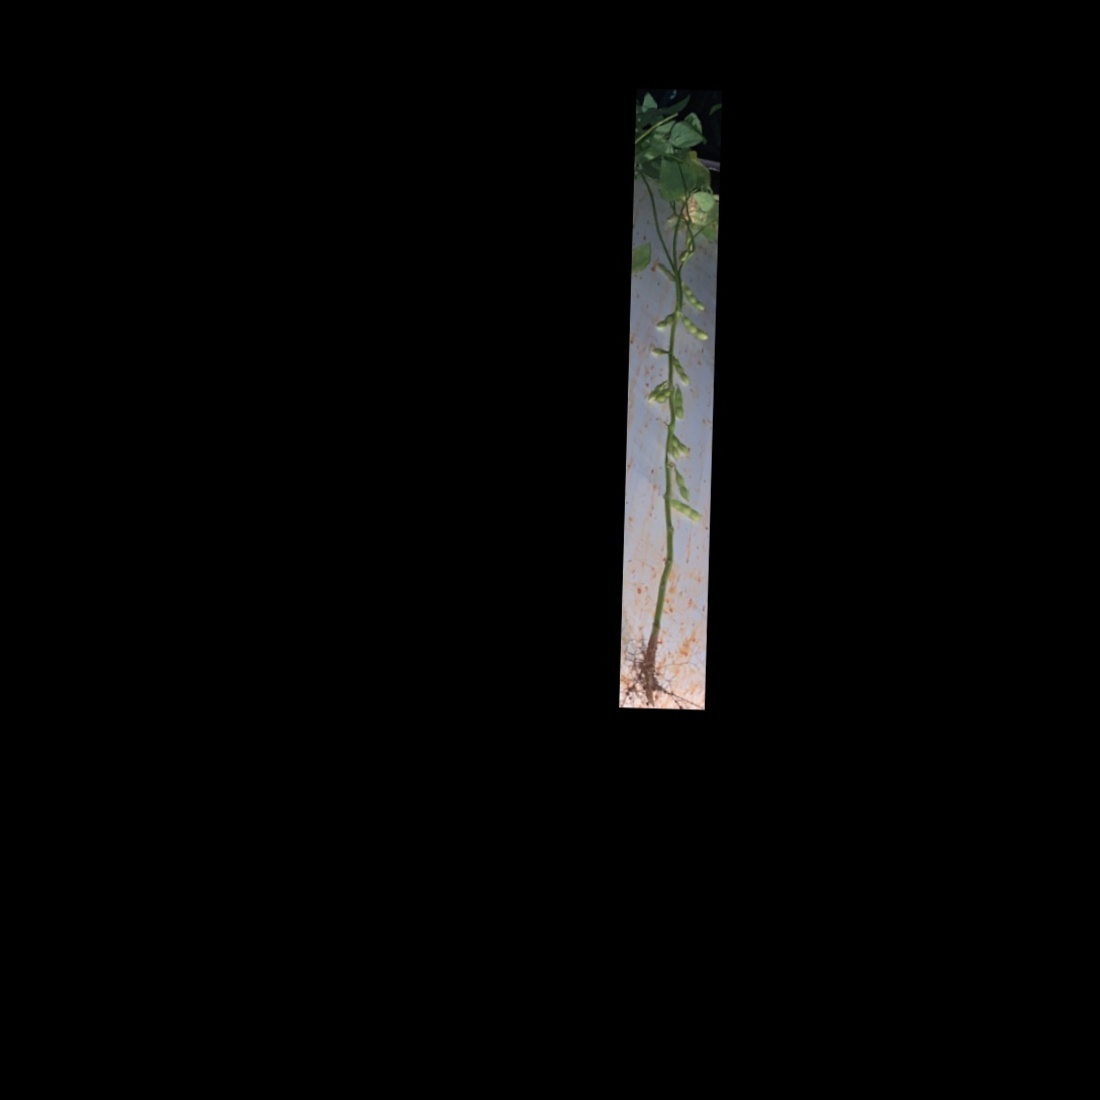pod: (677, 312, 709, 343), (680, 282, 708, 314), (669, 499, 703, 522), (670, 467, 691, 503), (670, 357, 692, 388), (671, 383, 687, 422), (669, 435, 691, 455), (652, 384, 669, 406), (654, 313, 673, 331)
soy: (626, 107, 719, 704)
